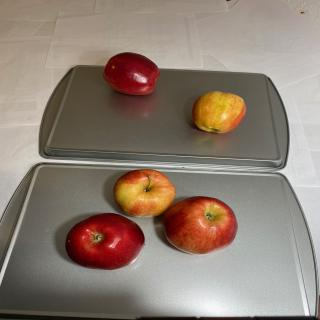Apple: (65, 213, 145, 270), (163, 196, 238, 255), (113, 169, 176, 217), (103, 52, 160, 95), (192, 91, 247, 134)
